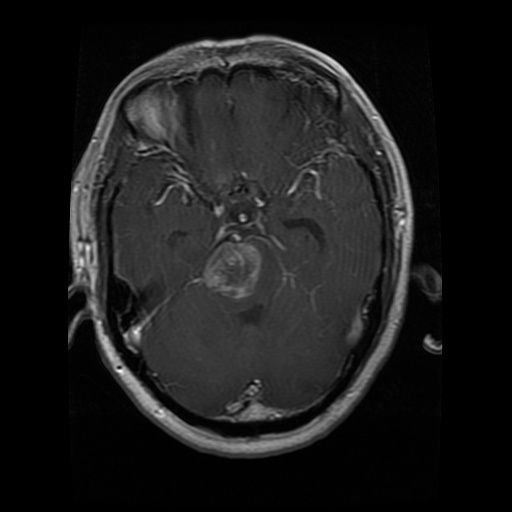glioma: (203, 240, 261, 300)
